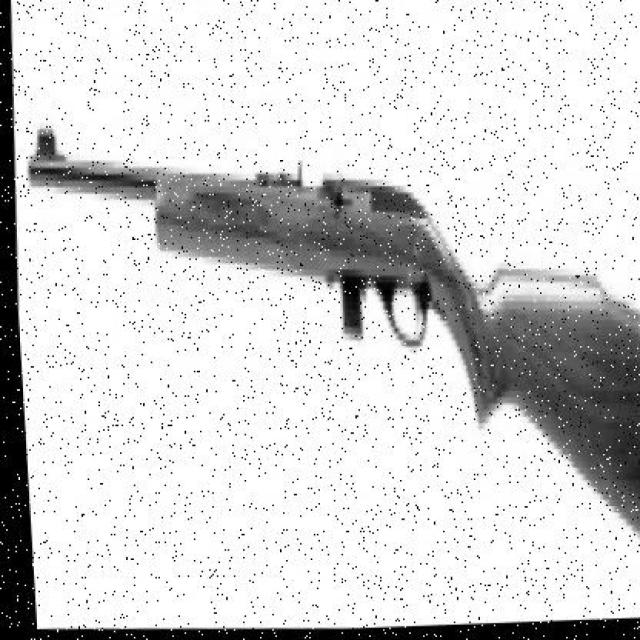weapon: (26, 129, 640, 542)
